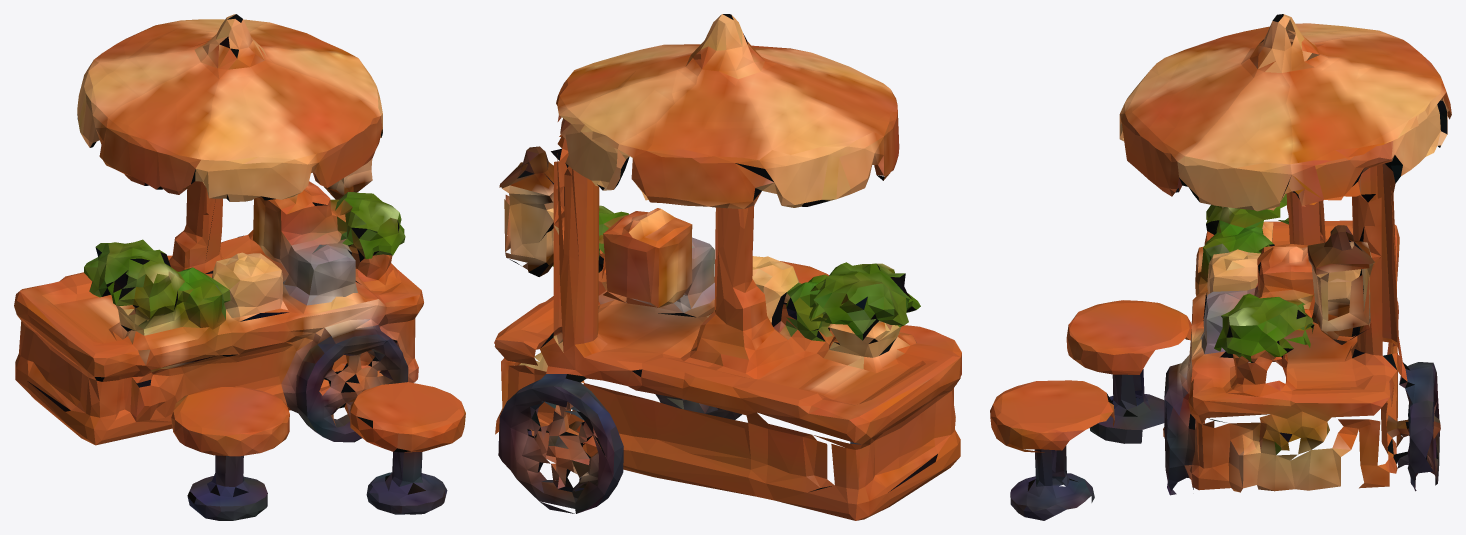
The model's file is M-5_08_cafecart.glb.
The picture shows the model from 3 angles, left to right: view 1: azimuth 30°, elevation 25°; view 2: azimuth 150°, elevation 25°; view 3: azimuth 270°, elevation 25°; orthographic projection. The views are drawn at different scales.
Parts seen in each view (by area): view 1: loA; view 2: loA; view 3: loA.
Part boxes in pixels (x1,y1,x2,y2): loA: (14, 14, 465, 520); loA: (494, 14, 961, 520); loA: (990, 14, 1451, 520).
Bounding box in the file's own units: 2.9 × 3.41 × 3.12.
1 material, 1 textured.
